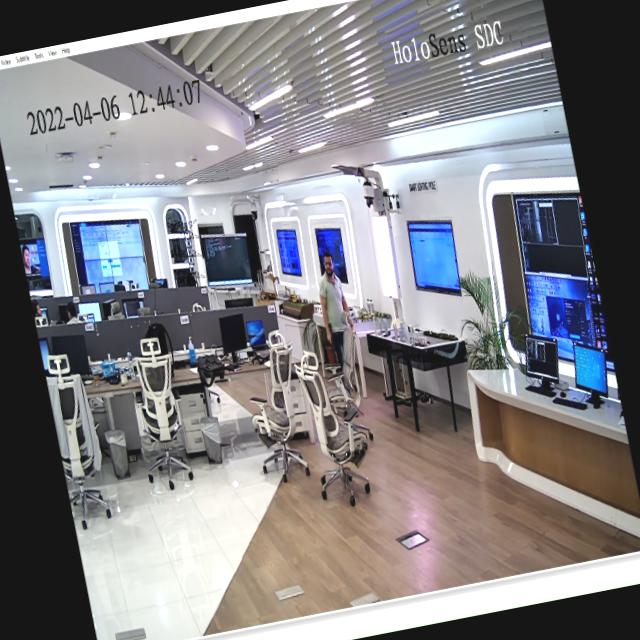long weapon: (322, 312, 356, 392)
